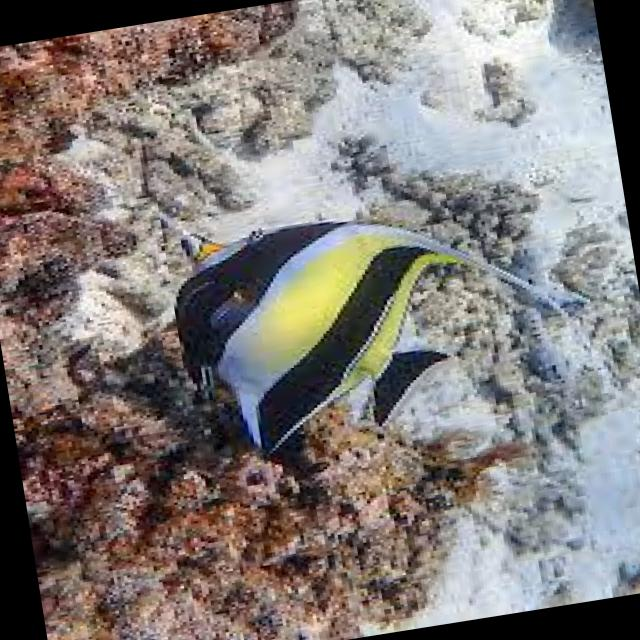MorishIdol: (147, 149, 588, 488)
